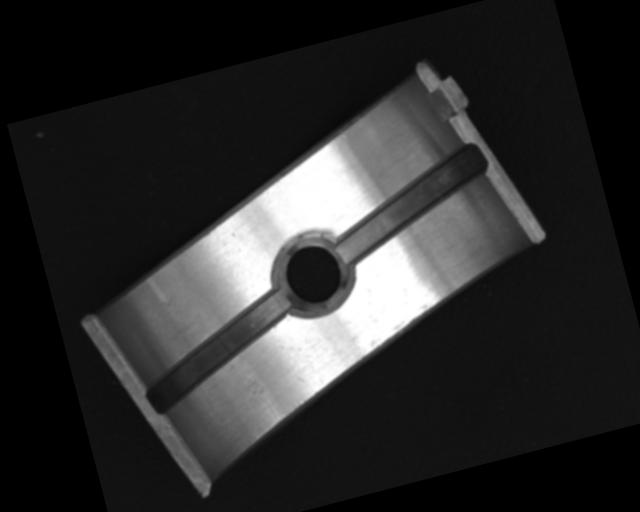gap: (128, 286, 311, 416), (322, 142, 500, 266)
hole: (268, 227, 358, 322)
